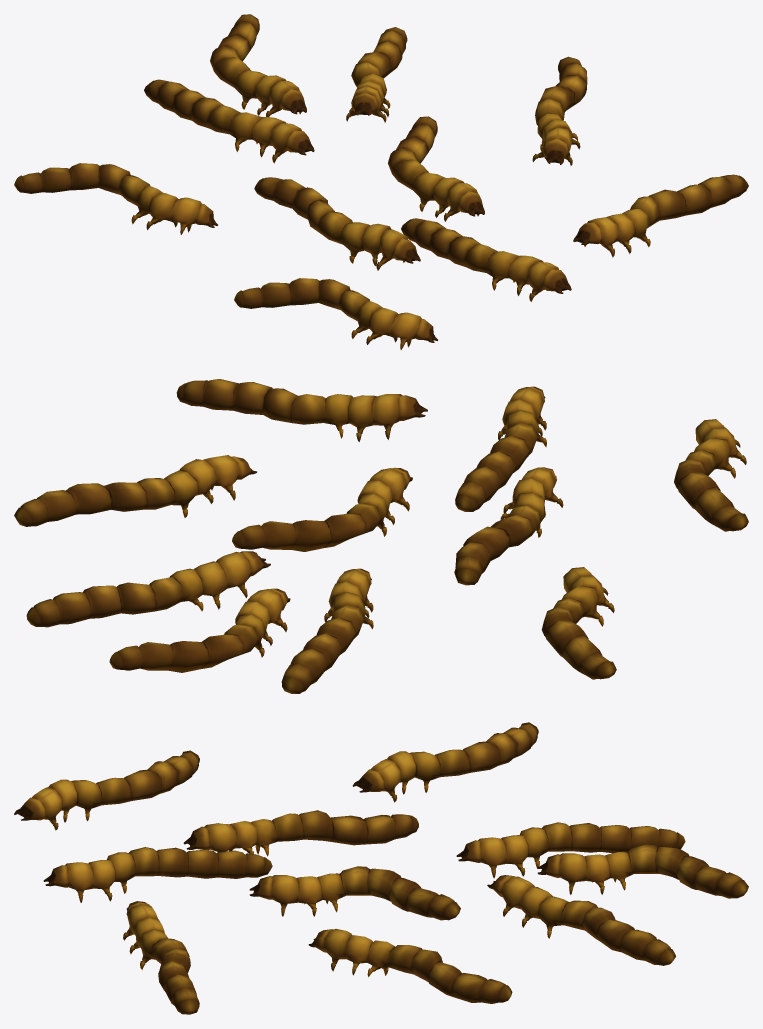
File: mealworms.glb
The picture shows the model from 3 angles, top to bottom: view 1: azimuth 30°, elevation 25°; view 2: azimuth 150°, elevation 25°; view 3: azimuth 270°, elevation 25°; orthographic projection. The views are drawn at different scales.
Parts seen in each view (by area): view 1: Object_2; view 2: Object_2; view 3: Object_2.
Part boxes in pixels (<box>): Object_2: <box>14,14,748,349</box>; Object_2: <box>14,379,748,693</box>; Object_2: <box>14,722,748,1014</box>.
Size of the model in its own units: 40.27 by 3.31 by 45.65.
1 material, 1 textured.
